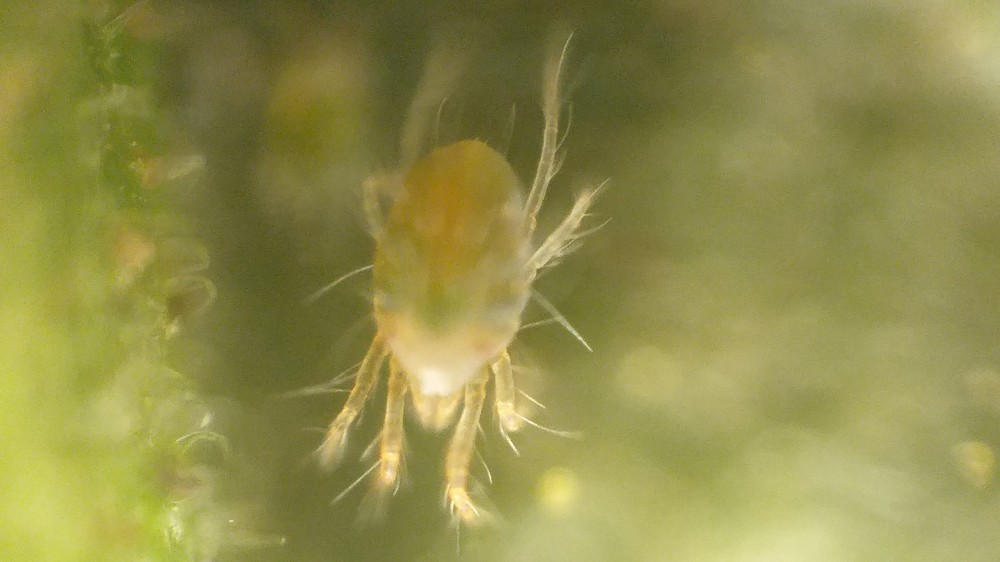Aracnido Rojo: (281, 37, 633, 535)
